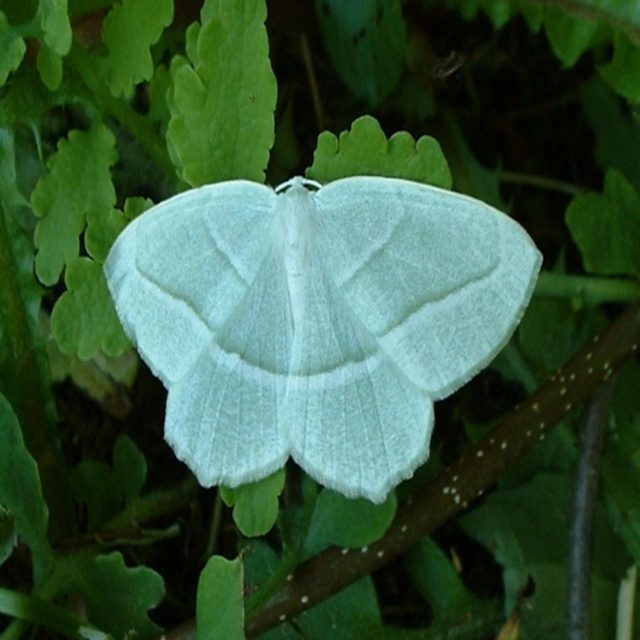Butterfly: (113, 152, 535, 511)
